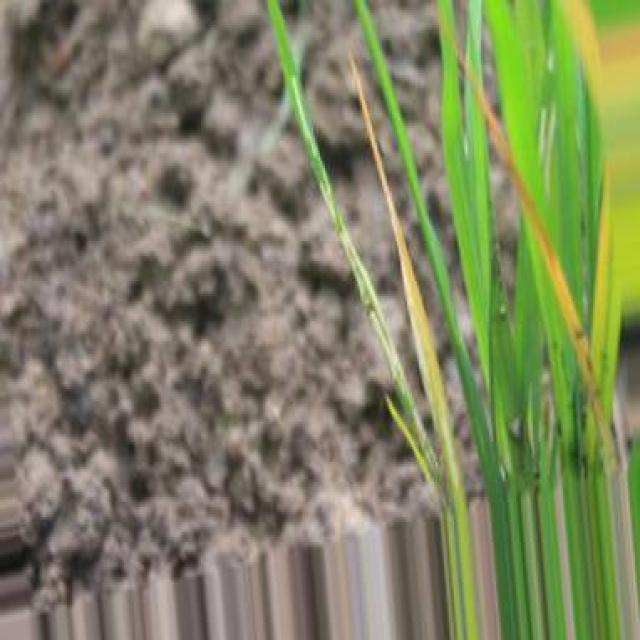Rice Tungro: (352, 58, 476, 640), (481, 90, 597, 417)
